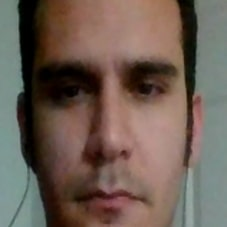awake: (35, 49, 182, 227)
